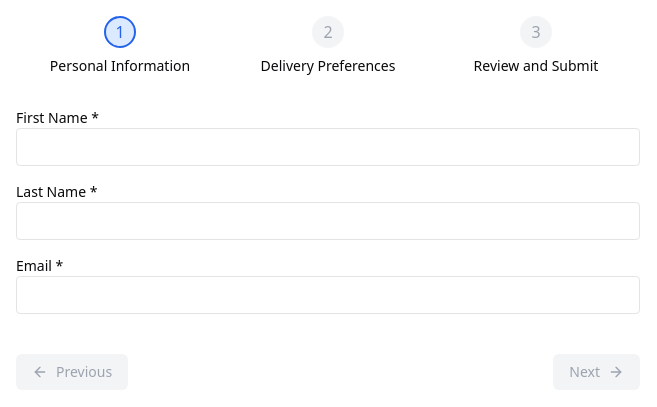
Scenario: RegistrationForm › Navigation › should allow navigation when all required fields are filled
This screenshot has width=657, height=407.
Type "John" into the field labelled "First Name *" at (328, 147), box [16,128,640,166]
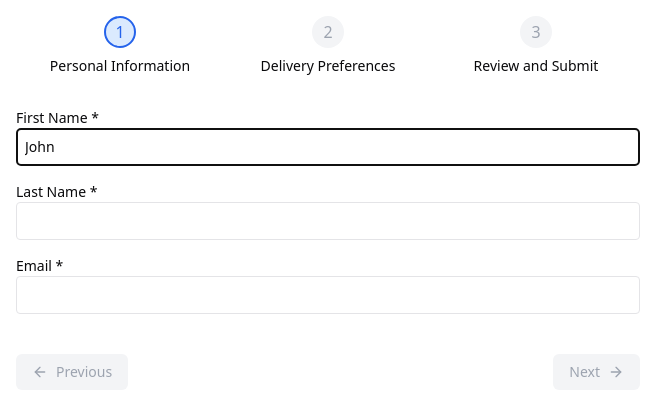
Type "Doe" into the field labelled "Last Name *" at (328, 221), box [16,202,640,240]
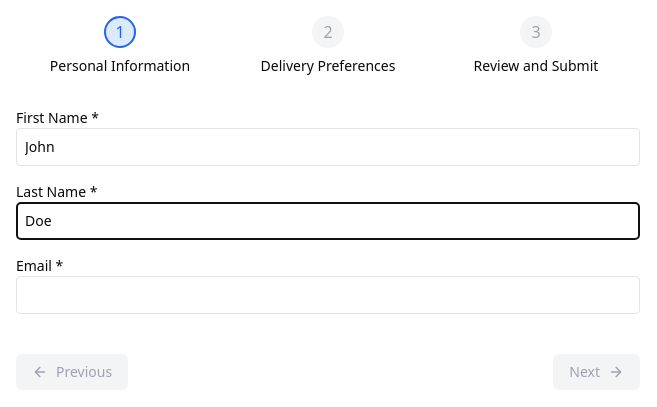
Type "john@example.com" into the field labelled "Email *" at (328, 295), box [16,276,640,314]
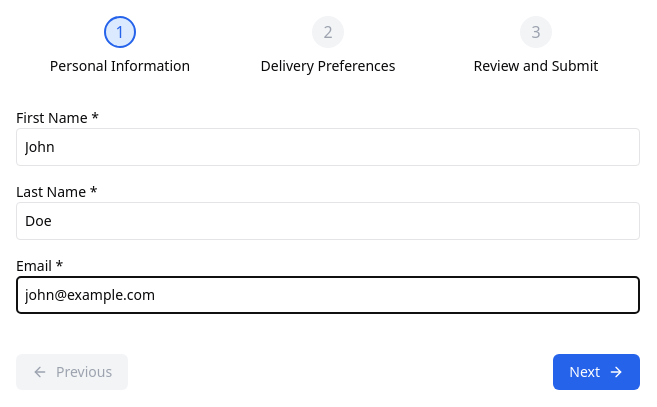
Expected: the button with test id "nextButton" is enabled, [553,354,640,390]
